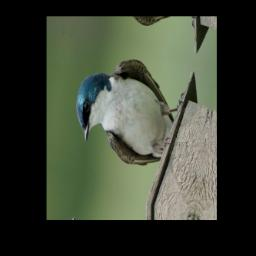Swallow: (69, 40, 188, 181)
